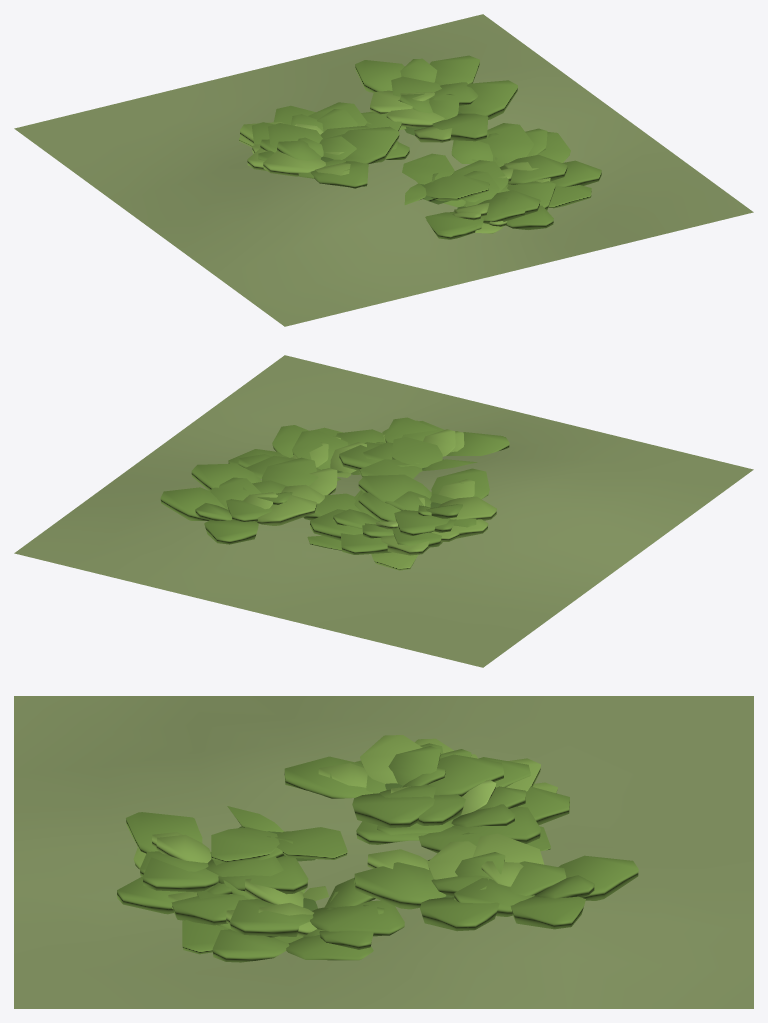
File: master_grass_lush_05.glb
3 renders of one model, top to bottom at view 1: azimuth 30°, elevation 25°; view 2: azimuth 150°, elevation 25°; view 3: azimuth 270°, elevation 25°, orthographic. The views are drawn at different scales.
Parts seen in each view (by area): view 1: master_grass_lush_05; view 2: master_grass_lush_05; view 3: master_grass_lush_05.
Boxes of the visible parts, <box> form: master_grass_lush_05: <box>14,14,753,326</box>; master_grass_lush_05: <box>14,355,753,667</box>; master_grass_lush_05: <box>14,696,753,1008</box>.
Bounding box in the file's own units: 1.35 × 0.1379 × 1.35.
